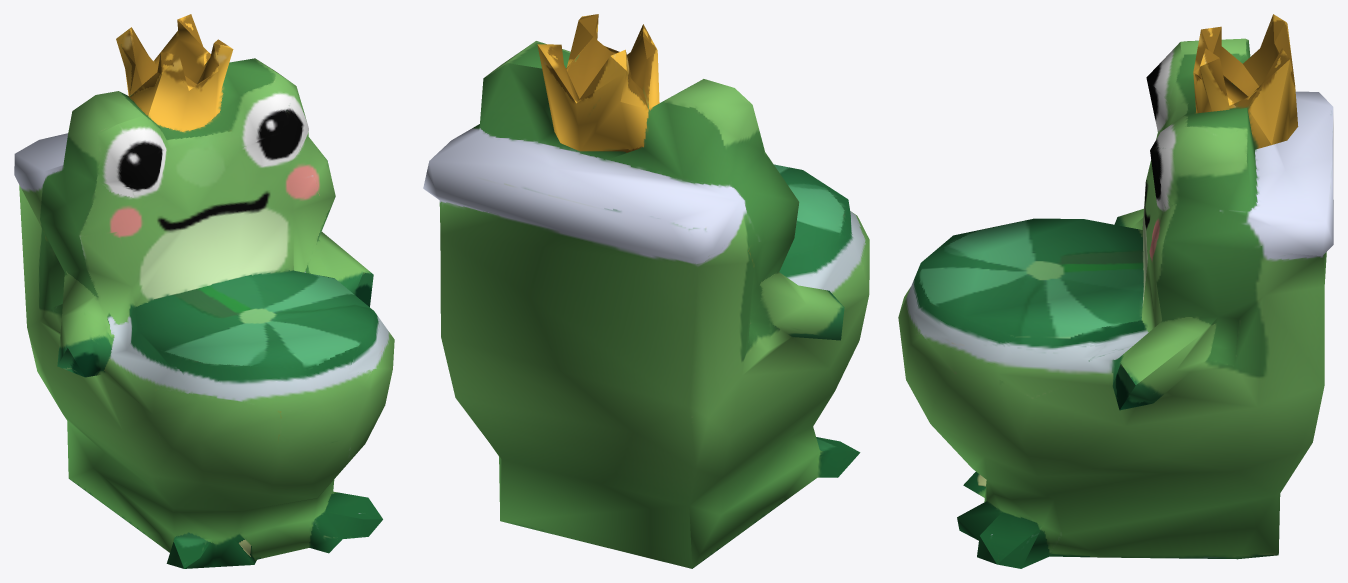
Rendered from royal-frog-toilet.glb.
3 views of the same model, side by side, from view 1: azimuth 30°, elevation 25°; view 2: azimuth 150°, elevation 25°; view 3: azimuth 270°, elevation 25° (orthographic). The views are drawn at different scales.
Visible parts, largest first — view 1: geometry_0.001; view 2: geometry_0.001; view 3: geometry_0.001.
Boxes of the visible parts, x1,y1,x2,y2 form: geometry_0.001: [14, 14, 394, 568]; geometry_0.001: [423, 14, 869, 568]; geometry_0.001: [898, 14, 1333, 568].
Size of the model in its own units: 0.7452 by 1 by 0.8078.
1 material, 1 textured.
